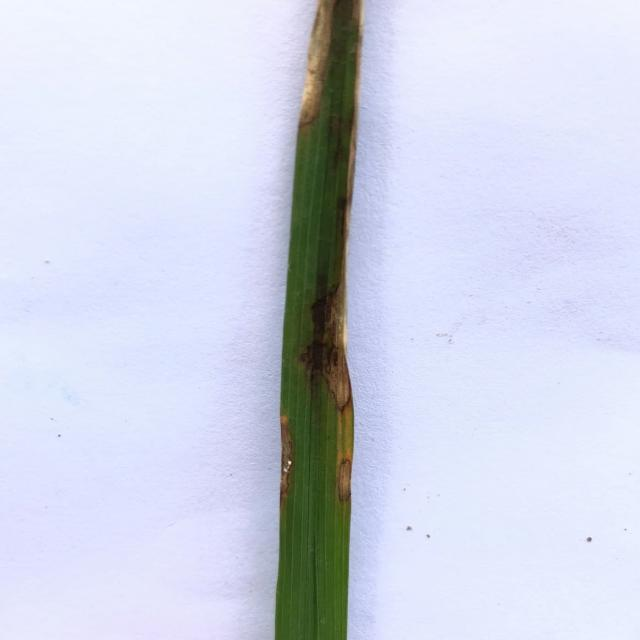leaf blight: (326, 281, 366, 505), (296, 0, 343, 129), (344, 0, 364, 244), (273, 406, 296, 499)
